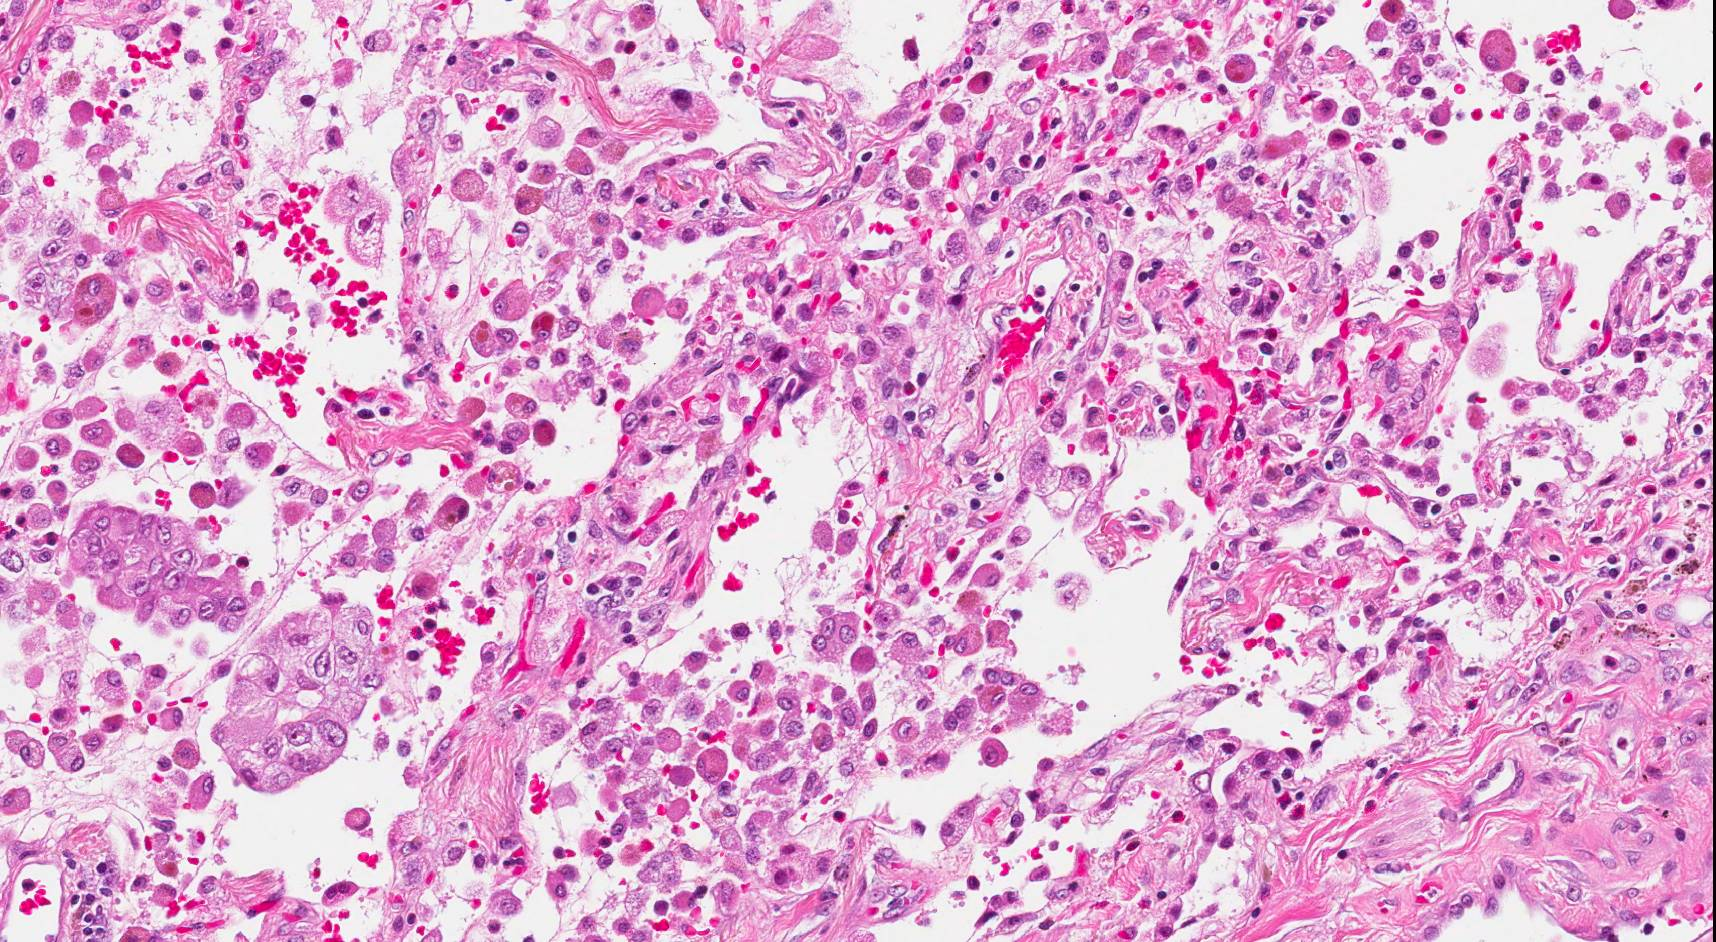stas: (209, 604, 385, 798), (64, 501, 250, 632)
